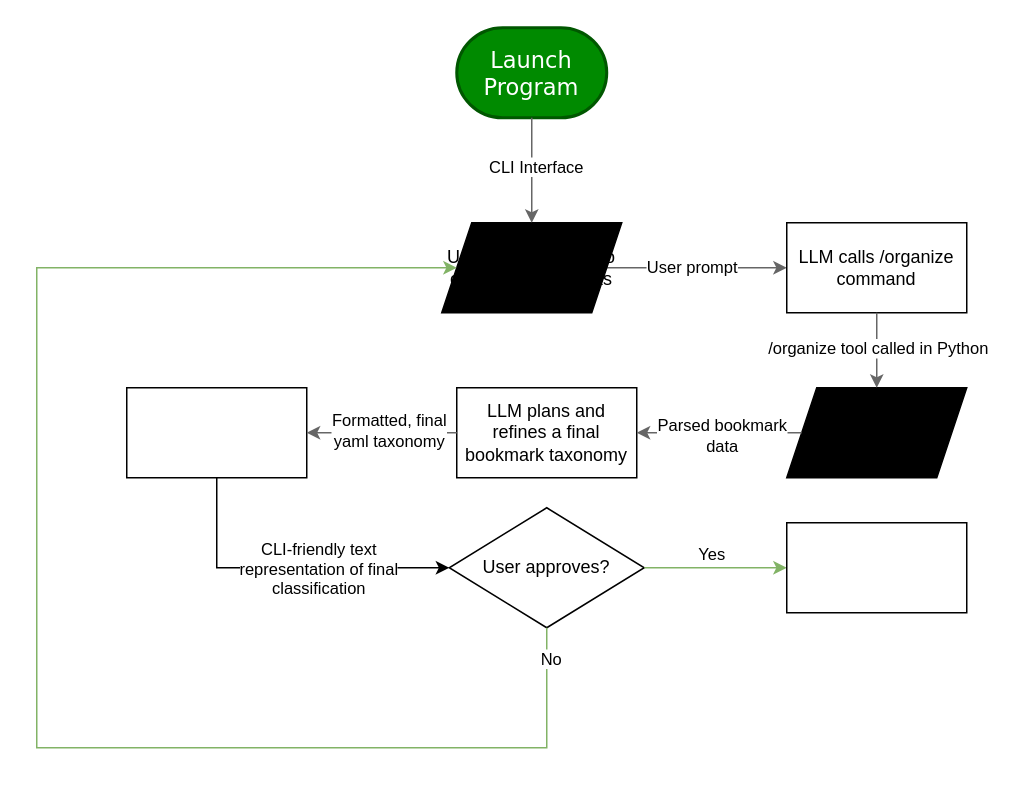
Some shapes in this 1014 by 786 pixel diagram are drawn without their labels. Here are the shapes that lost their labels. From the top down, the centre of each, then its label:
At (216,432): "LLM classifies each bookmark in stateless for loop".
At (876,432): "Program reads in bookmark data from user".
At (876,567): "Generate new formatted bookmark export file and output file directory".
